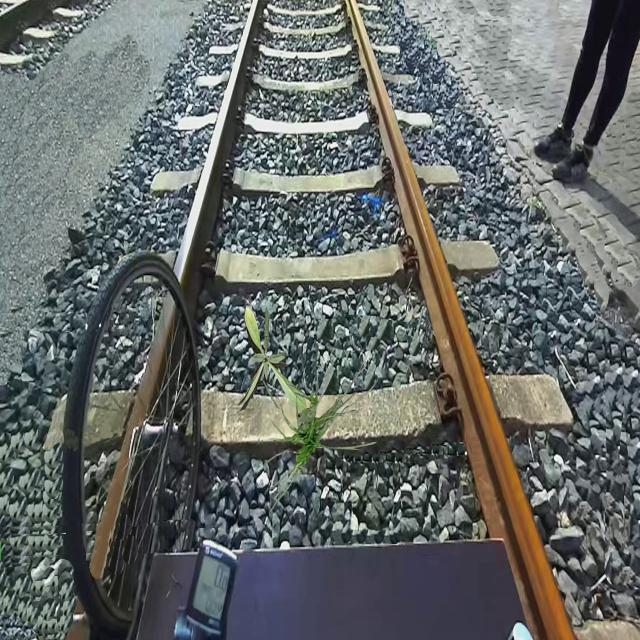Plant: (260, 348, 378, 512), (235, 305, 306, 413)
